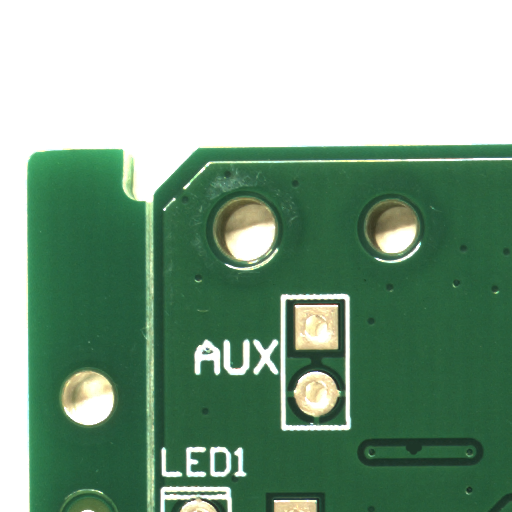Mouse_bite: (415, 449, 433, 460)
